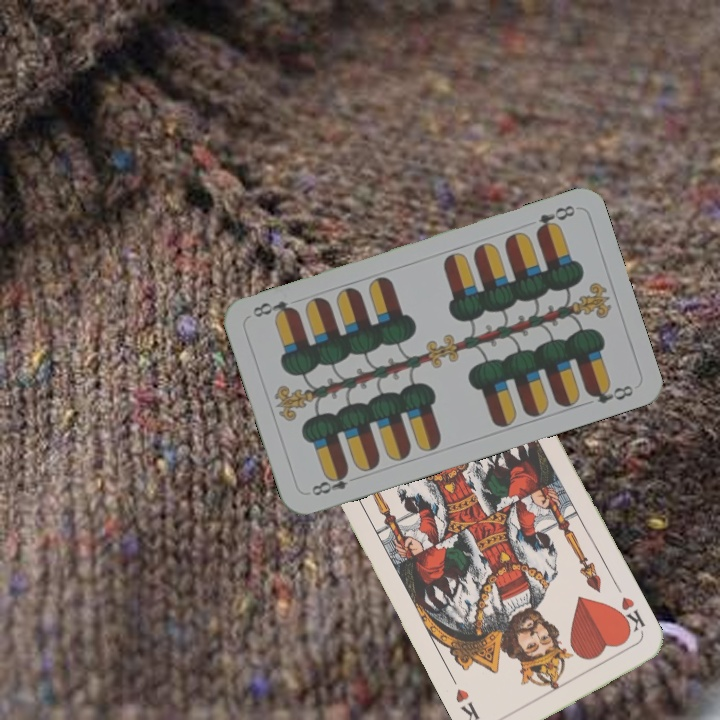E8: (532, 201, 578, 237), (307, 466, 351, 499)
HK: (611, 593, 648, 638)
